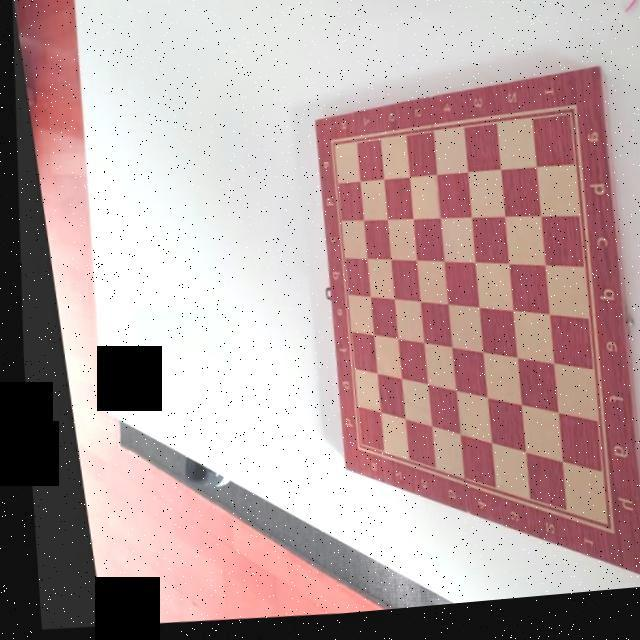chess-table-corners: (552, 98, 582, 132), (574, 518, 600, 550), (331, 436, 353, 467), (316, 132, 334, 160)
